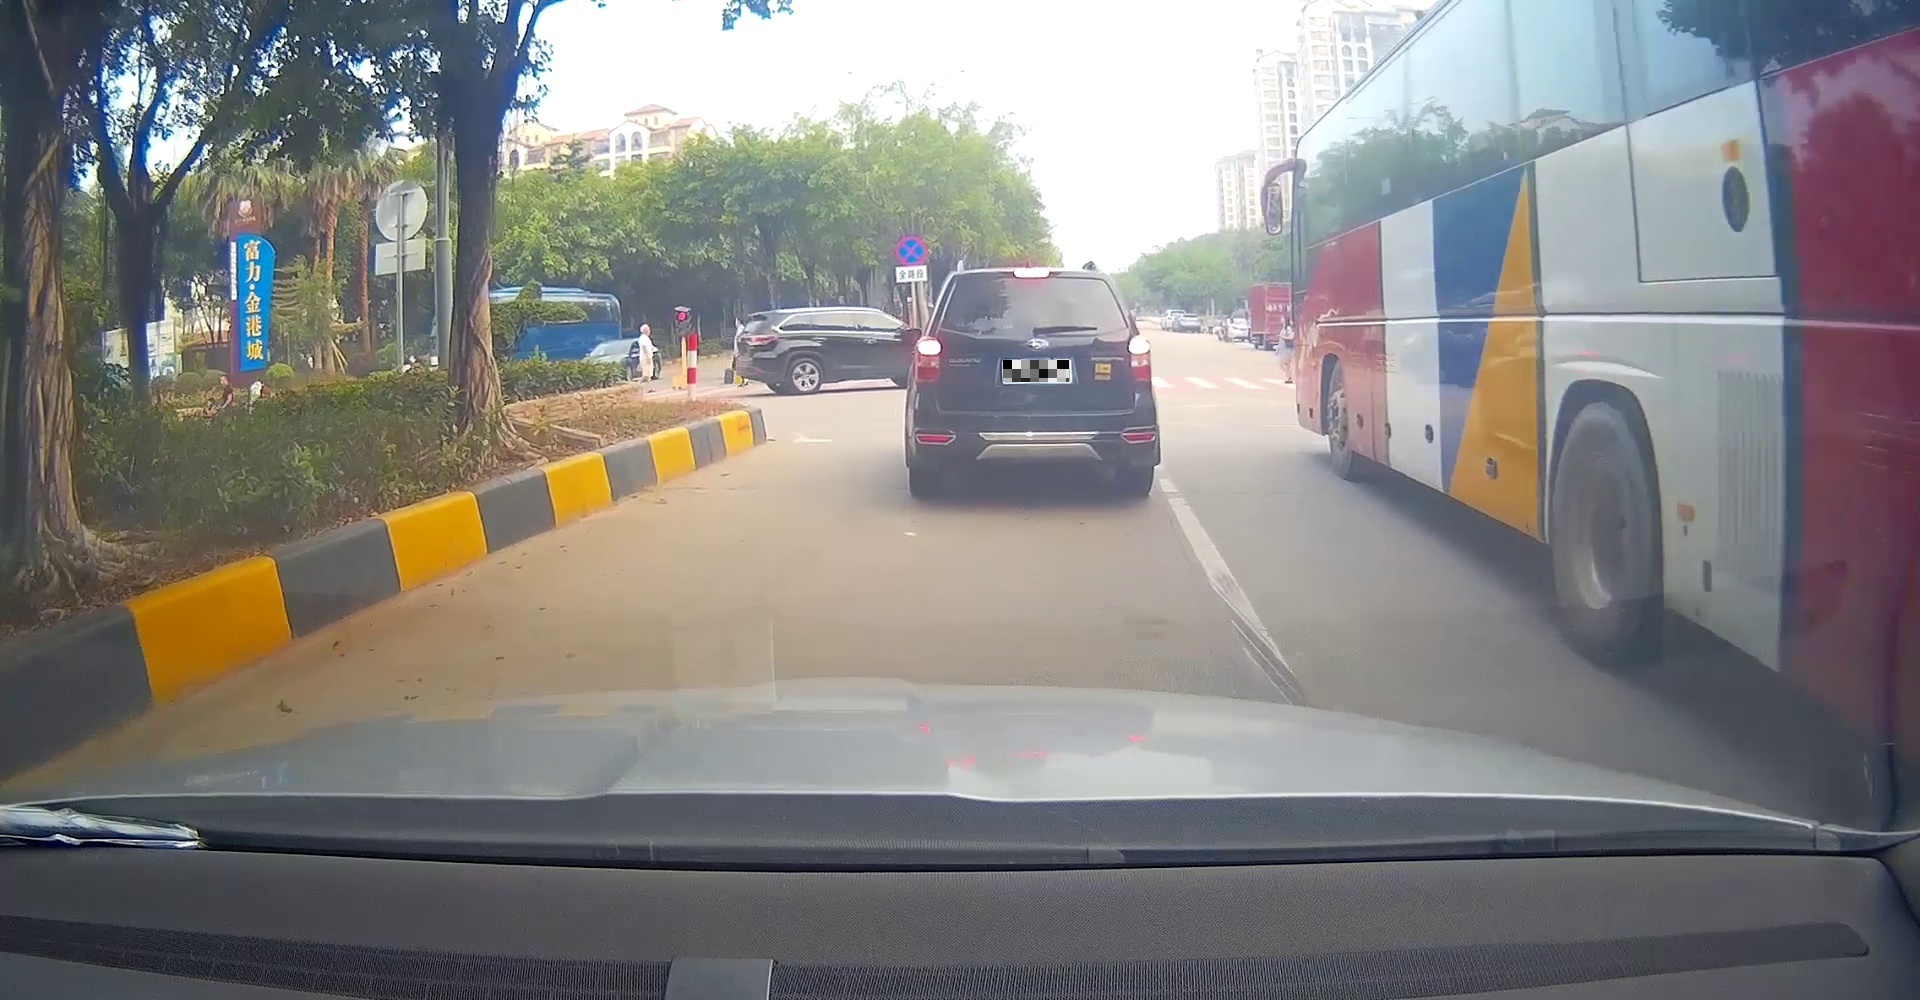L_light: (913, 335, 941, 382)
R_light: (1128, 334, 1153, 383)
T_light: (1013, 272, 1048, 277)
day-brake: (909, 264, 1161, 497)
plate_1: (1003, 360, 1069, 382)
